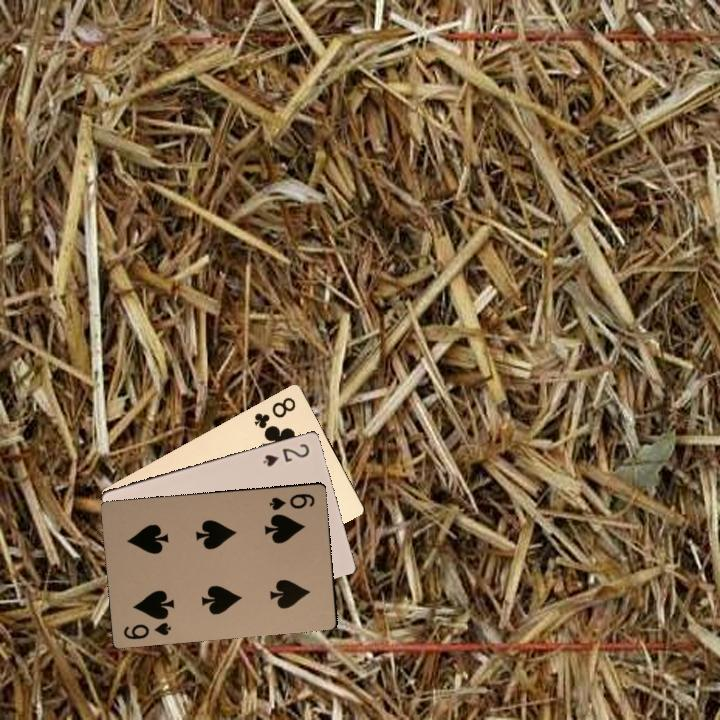2s: (260, 440, 312, 469)
6s: (120, 618, 173, 642), (265, 489, 317, 513)
8c: (250, 393, 298, 431)
